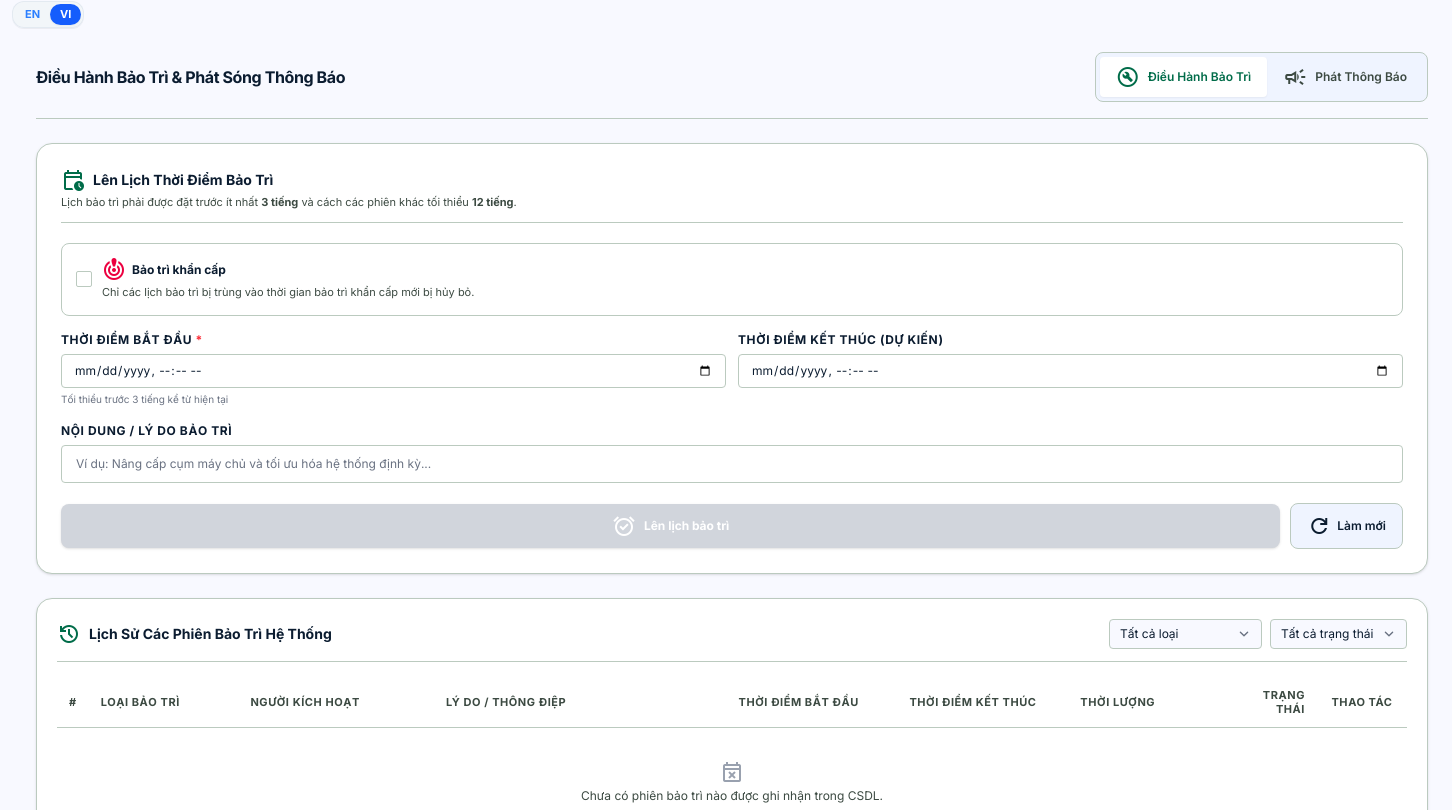
Test case: Admin-web Phase 3 i18n Suite — System & Operations Pages (2-Tier Testing) › 2. BroadcastPage i18n Verification › 2.2. Tầng 2: Chuyển tab sang Phát thông báo và chuyển ngôn ngữ EN — Tiêu đề, mức ưu tiên và preview đổi sang EN
The width and height of the screenshot is (1452, 810).
Chuyển sang Tab Broadcast
Click the text "Phát Thông Báo": (1361, 76) [1315,68,1407,84]
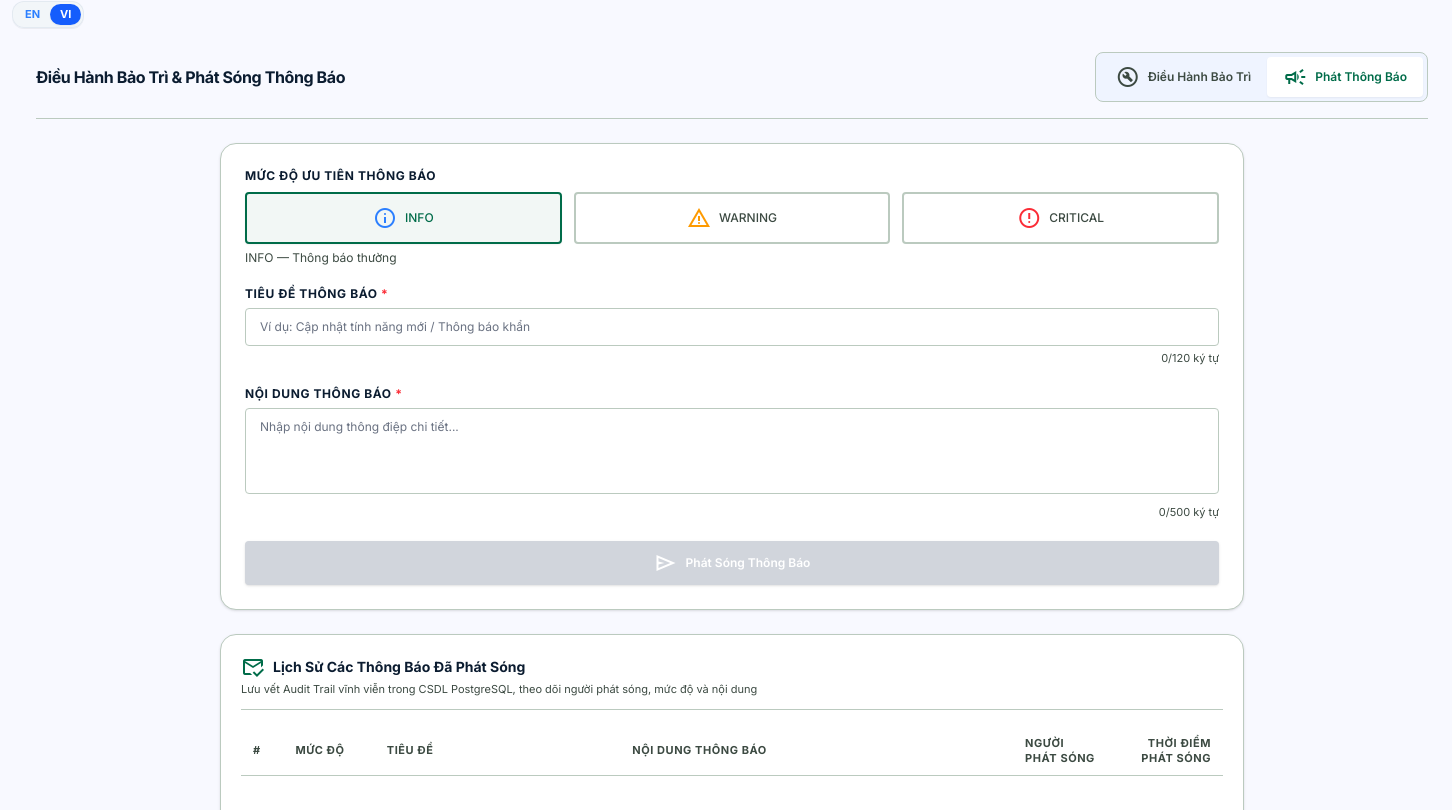
Chuyển sang Tiếng Anh
Click the button with test id "lang-btn-en": (33, 14) [15,4,50,24]
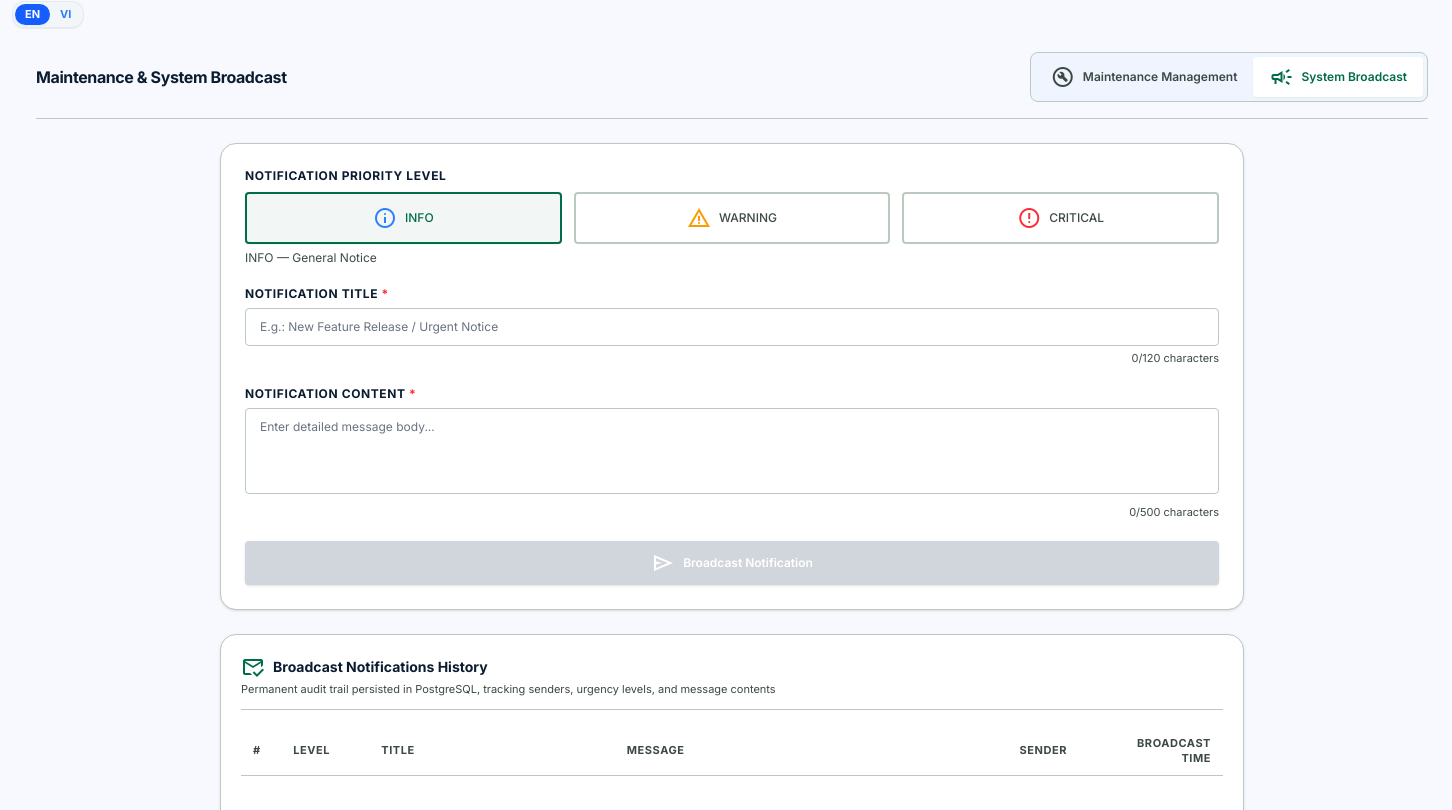
Expected: the heading "Maintenance & System Broadcast" is shown, [36,64,287,88]
Expected: the text "Notification Priority Level" is shown, [245,168,446,182]
Expected: the text "Notification Title" is shown, [245,286,378,300]
